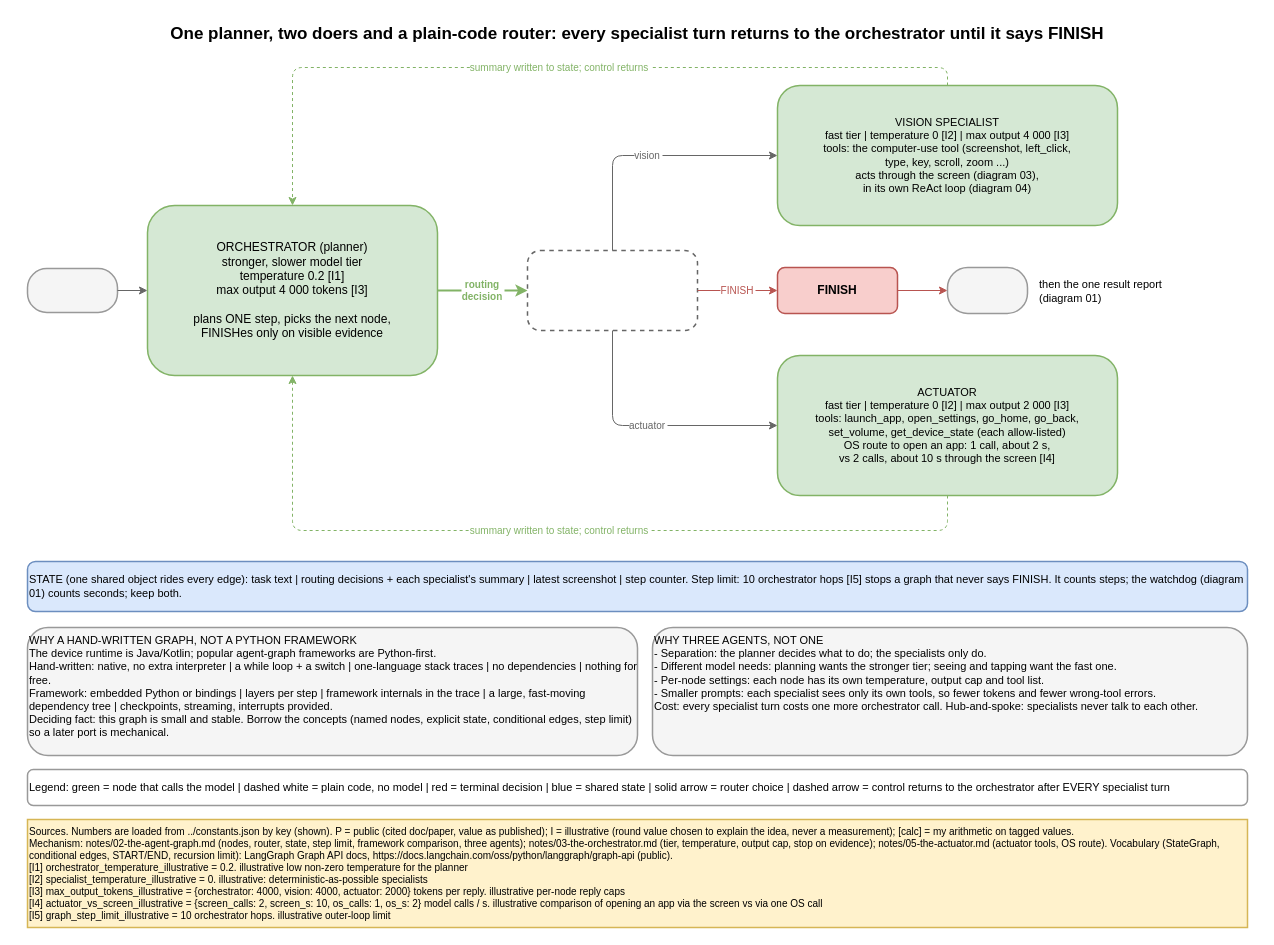
Some shapes in this 1274 by 945 pixel diagram are drawn without their labels. Here are the shapes that lost their labels. From the top down, the box of each, then its label:
(26, 267, 118, 313): START
(526, 249, 698, 331): ROUTER plain code, not a model: switch on one field
(946, 266, 1028, 314): END
